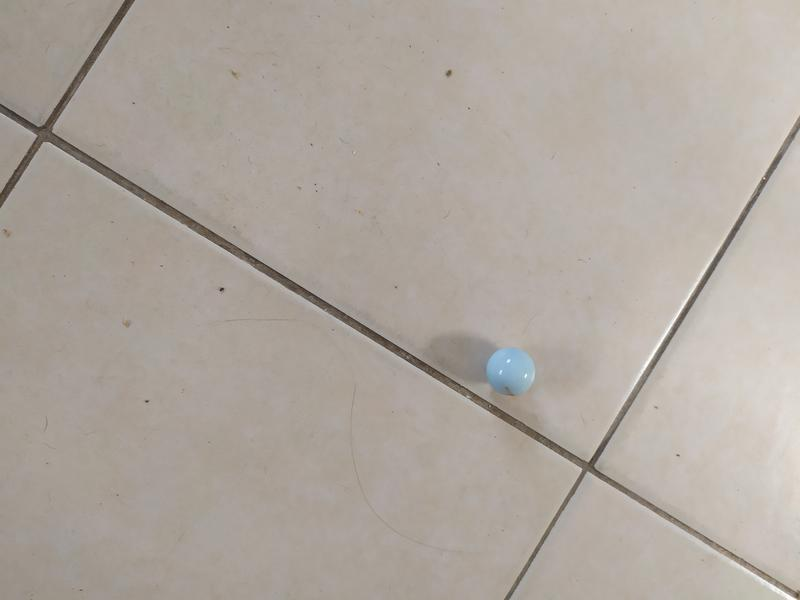Warning: (483, 342, 540, 399)
